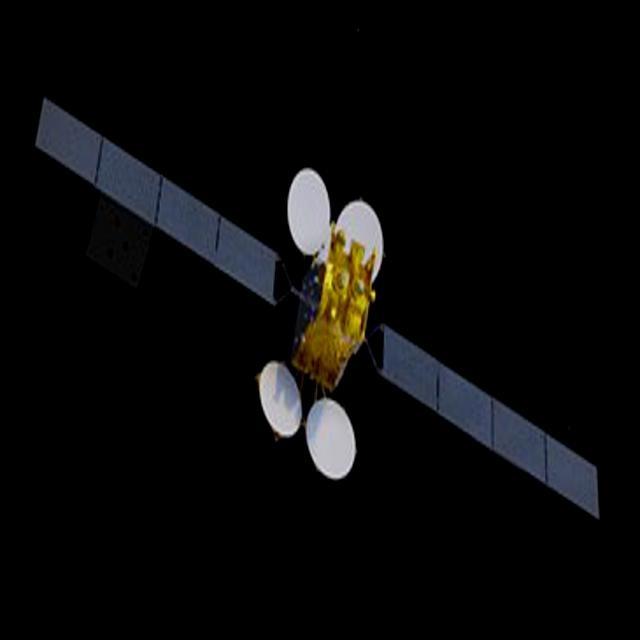medium_debris: (23, 86, 611, 546)
